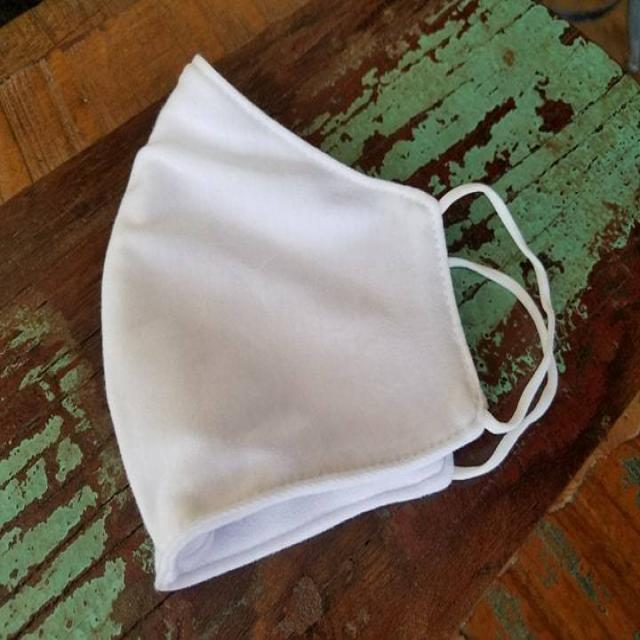non-organic waste: (96, 80, 555, 606)
